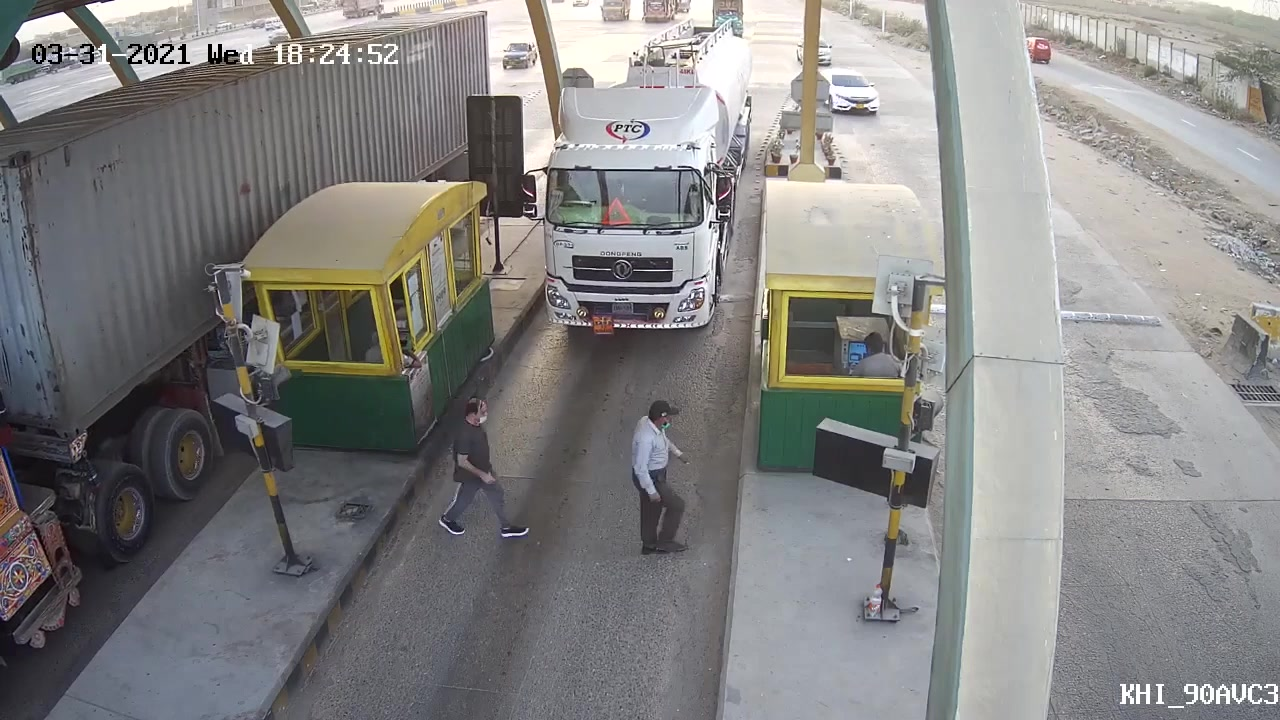F6: (517, 18, 767, 341)
